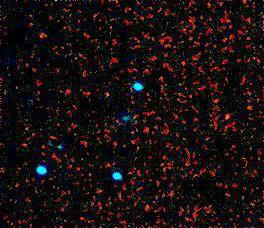star: (213, 102, 243, 132)
